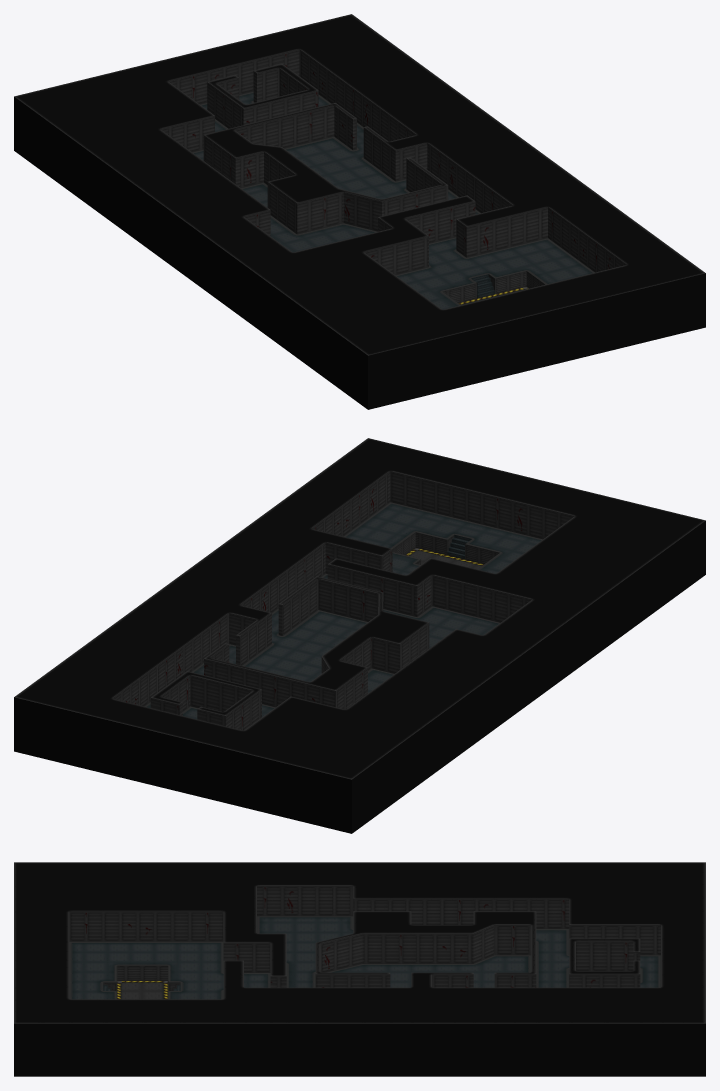
Rendered from Level.fbx.
3 renders of one model, top to bottom at view 1: azimuth 30°, elevation 25°; view 2: azimuth 150°, elevation 25°; view 3: azimuth 270°, elevation 25°, orthographic. The views are drawn at different scales.
Visible parts, largest first — view 1: Level; view 2: Level; view 3: Level.
Part boxes in pixels (x1,y1,x2,y2): Level: (14, 14, 705, 409); Level: (14, 438, 705, 833); Level: (14, 862, 705, 1076).
Size of the model in its own units: 24.8 by 3.81 by 45.02.
